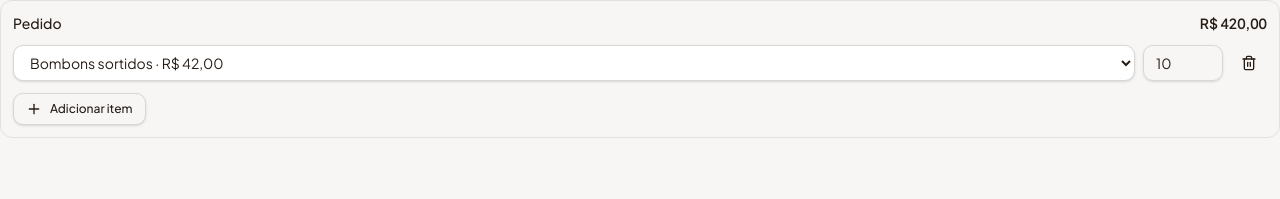
Test: PedidoCampos › "Adicionar item" acrescenta uma linha e "Remover item" tira
Click the button "Adicionar item": click(79, 109) [13,93,146,125]
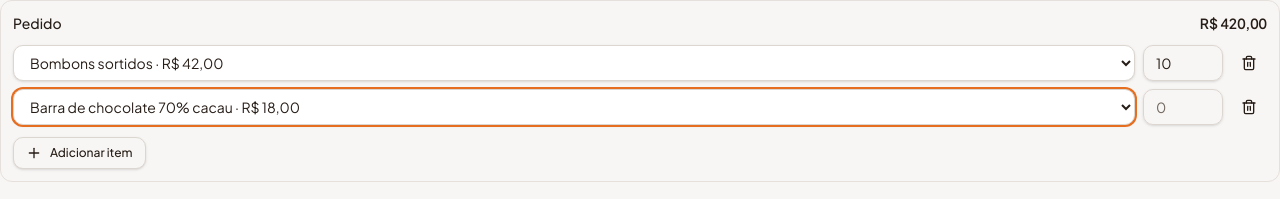
Expected: the number of buttons named "Remover item" is 2
Click the button named "Remover item 1": click(1249, 63) [1231,45,1267,81]
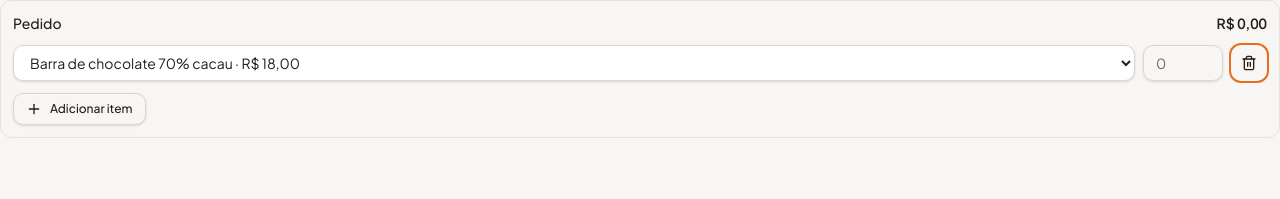
Expected: the number of buttons named "Remover item" is 1, [1231,45,1267,81]
Expected: the dropdown named "Produto do item 1" shows "Barra de chocolate 70% cacau · R$ 18,00", [13,45,1135,81]
